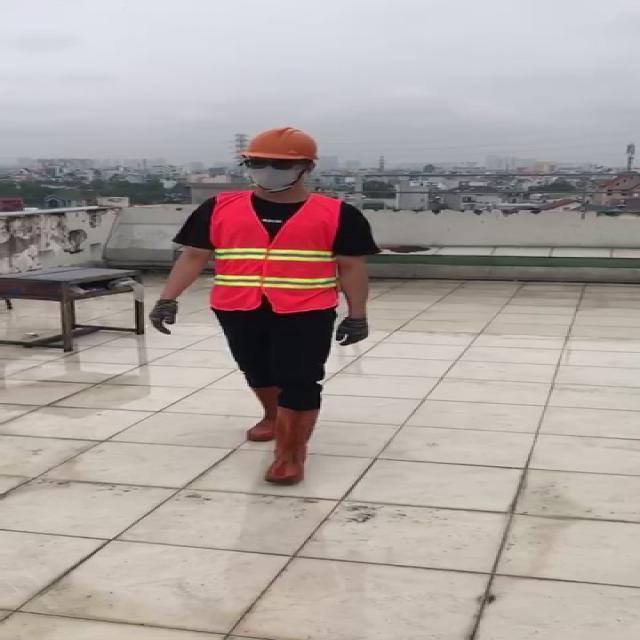gloves: (333, 315, 369, 347), (148, 298, 179, 335)
goggles: (241, 157, 302, 172)
helmet: (239, 124, 324, 164)
safety_vest: (208, 193, 343, 313)
